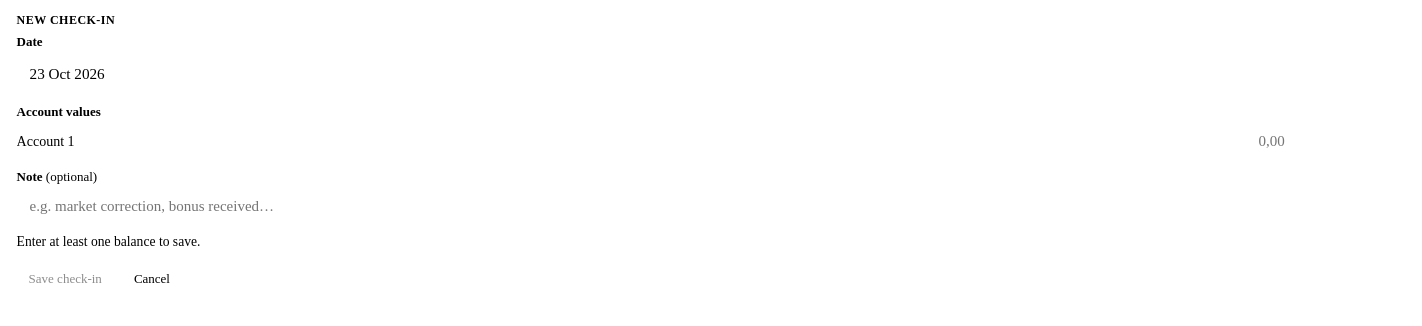
Test: CheckinFormSheet when the save fails › does not leave a stale message on the next attempt
This screenshot has width=1422, height=326.
Type "1000" into the field named "Value for Account 1" at (1325, 142), box [1245,124,1405,159]
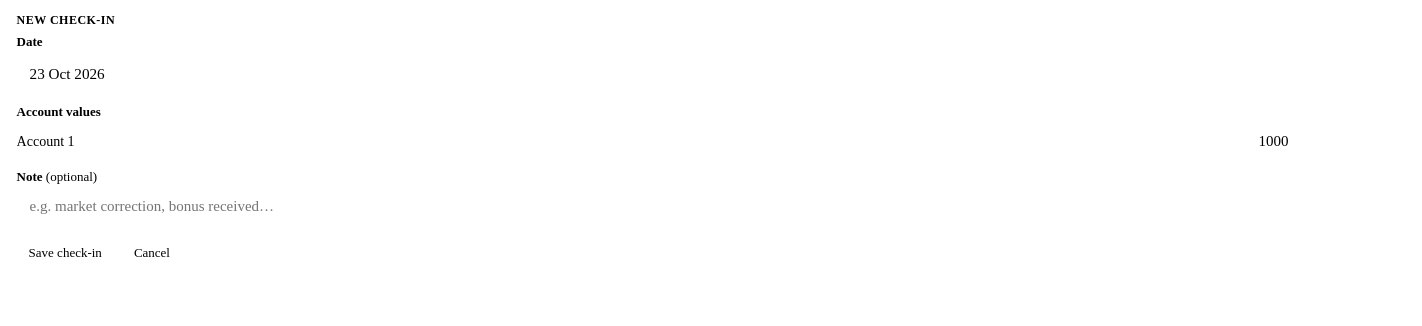
Click the button "Save check-in" at (65, 253), box [17,238,114,267]
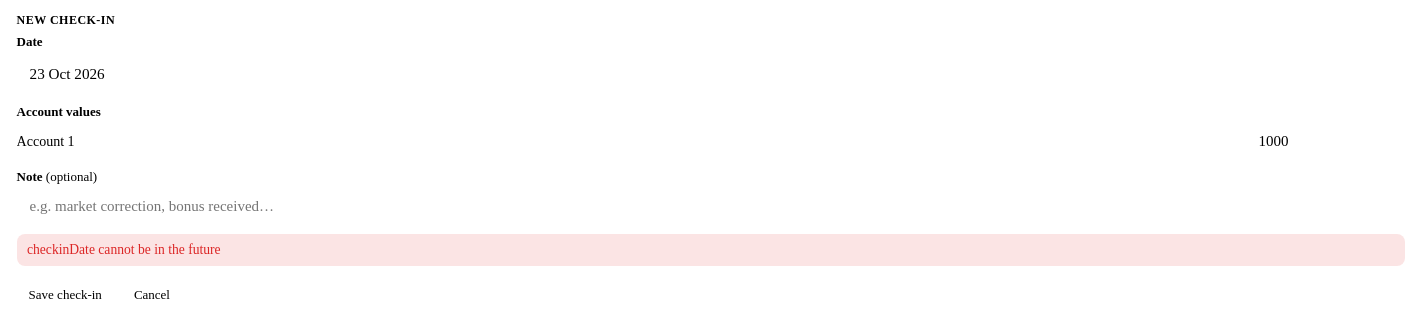
Expected: the message "checkinDate cannot be in the future" is shown, [17,234,1405,266]
Click the button "Save check-in" at (65, 295), box [17,280,114,309]
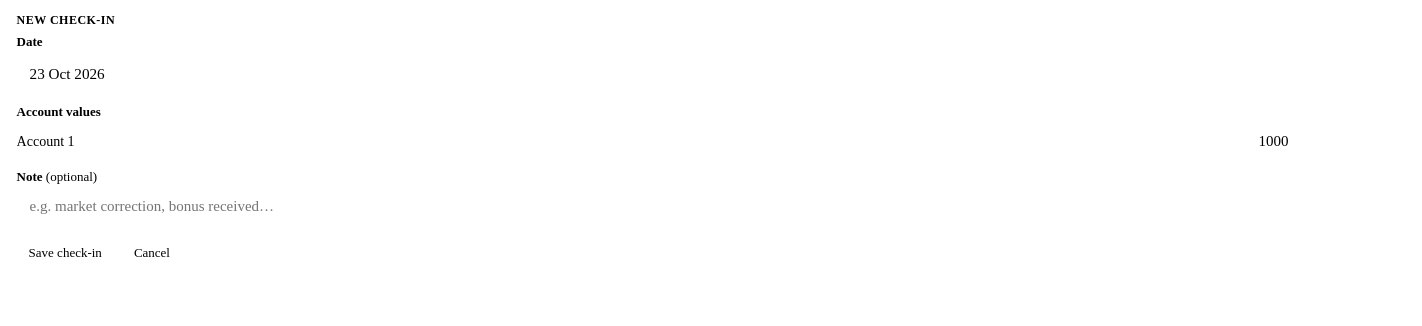
Expected: the message "checkinDate cannot be in the future" is gone
